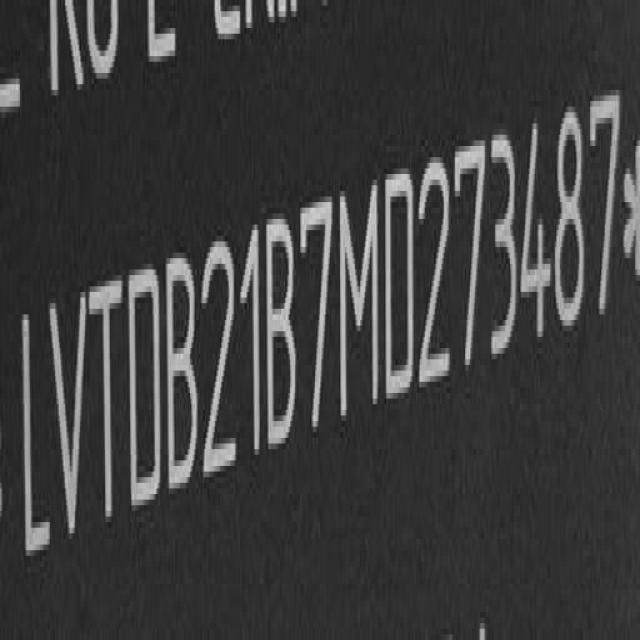1: (238, 224, 264, 473)
2: (417, 147, 455, 399), (202, 241, 240, 487)
3: (488, 119, 521, 368)
4: (520, 115, 552, 352)
7: (301, 191, 339, 449), (453, 135, 487, 384), (592, 85, 624, 327)
8: (554, 102, 587, 339)
B: (264, 211, 299, 456), (166, 254, 199, 496)
D: (128, 260, 166, 508), (384, 162, 418, 408)
L: (18, 295, 53, 569)
M: (338, 176, 383, 427)
T: (90, 269, 126, 537)
V: (48, 286, 89, 560)
